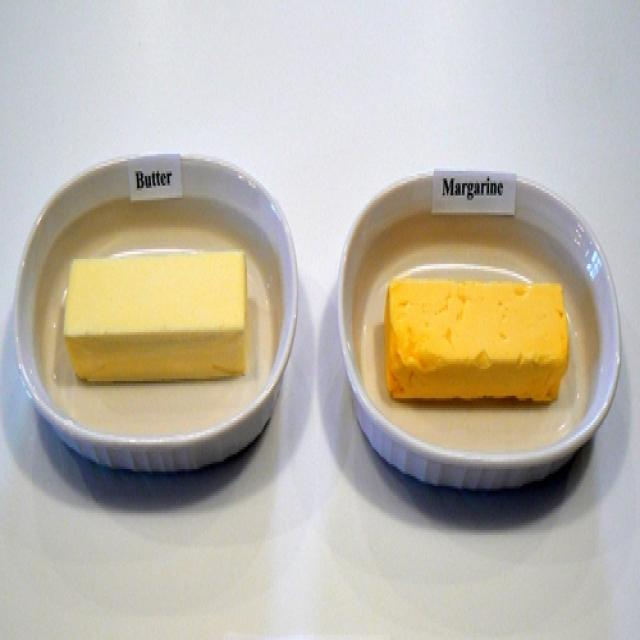Butter: (65, 254, 247, 386), (388, 278, 566, 411)
